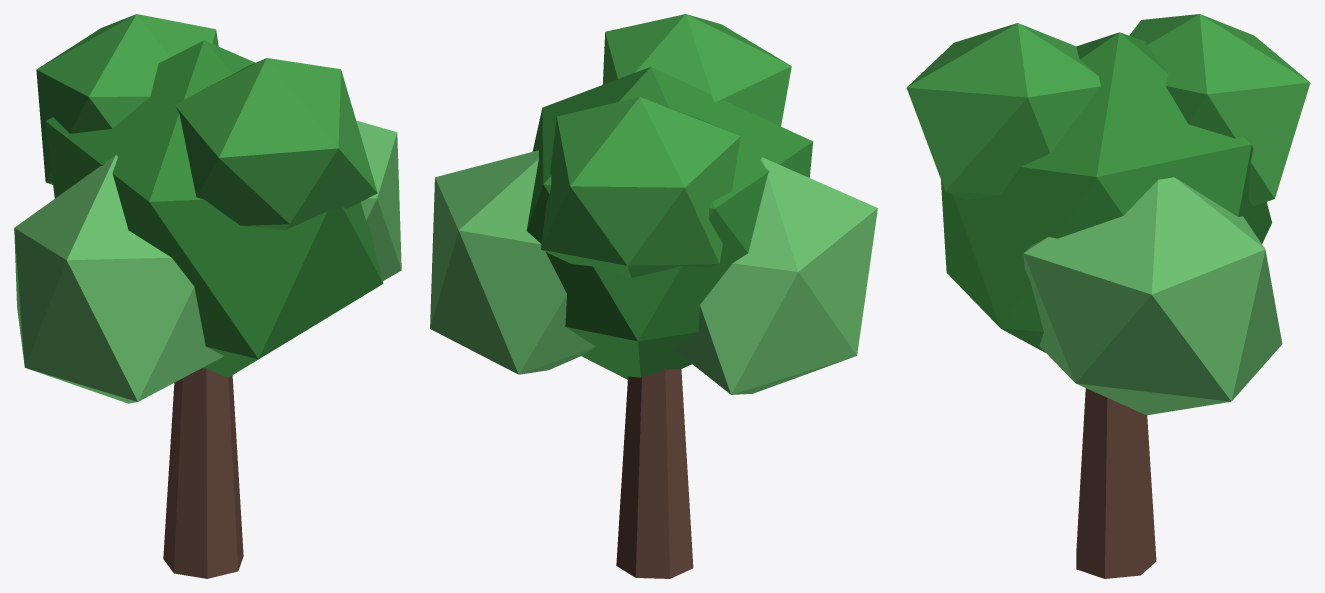
The model's file is oak.glb.
3 renders of one model, left to right at view 1: azimuth 30°, elevation 25°; view 2: azimuth 150°, elevation 25°; view 3: azimuth 270°, elevation 25°, orthographic. The views are drawn at different scales.
Visible parts, largest first — view 1: oak; view 2: oak; view 3: oak.
Boxes of the visible parts, bbox=[...] form: oak: bbox=[14, 14, 401, 578]; oak: bbox=[430, 14, 877, 578]; oak: bbox=[906, 14, 1310, 578].
Size of the model in its own units: 2.5 by 3.14 by 2.1.
